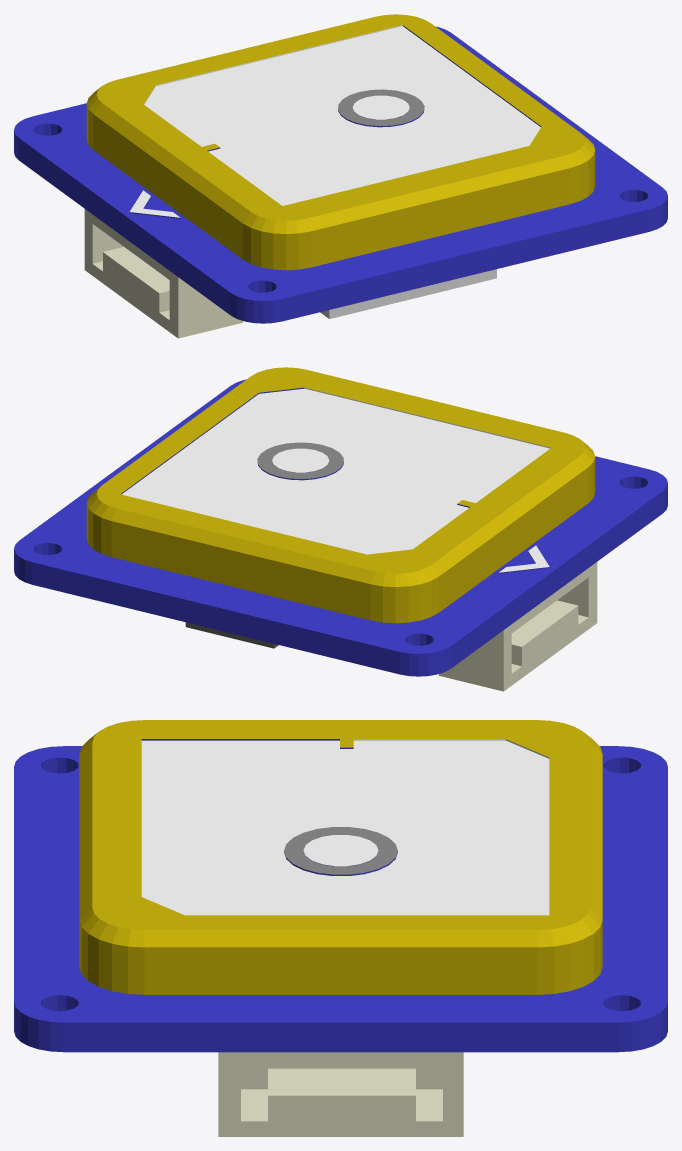
The model's file is model_matek_m9n-DpVnmtqn.glb.
The picture shows the model from 3 angles, top to bottom: view 1: azimuth 30°, elevation 25°; view 2: azimuth 150°, elevation 25°; view 3: azimuth 270°, elevation 25°; orthographic projection. The views are drawn at different scales.
Bounding box in the file's own units: 20 × 6.01 × 20.
